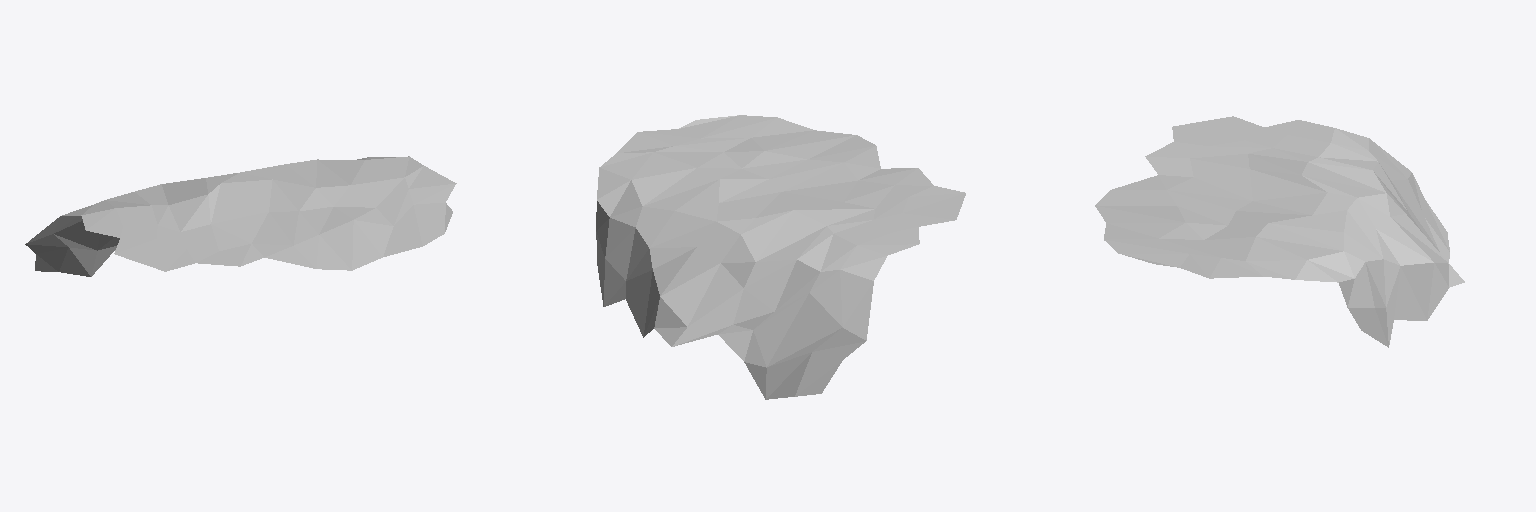
Rendered from MSH_env_grass-hanging-c.obj.
3 renders of one model, left to right at view 1: azimuth 30°, elevation 25°; view 2: azimuth 150°, elevation 25°; view 3: azimuth 270°, elevation 25°, orthographic.
Visible parts, largest first — view 1: MSH_env_grass_hanging_c group4; view 2: MSH_env_grass_hanging_c group4; view 3: MSH_env_grass_hanging_c group4.
Boxes of the visible parts, x1=… form: MSH_env_grass_hanging_c group4: x1=25, y1=156, x2=456, y2=276; MSH_env_grass_hanging_c group4: x1=596, y1=115, x2=965, y2=399; MSH_env_grass_hanging_c group4: x1=1095, y1=116, x2=1464, y2=347.
Size of the model in its own units: 45.55 by 16.53 by 44.22.